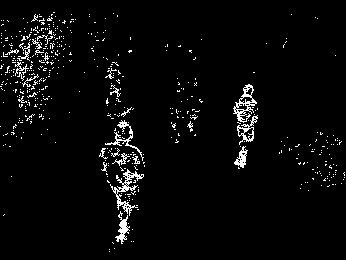person: (93, 119, 147, 244), (233, 85, 260, 171), (99, 57, 128, 114)
